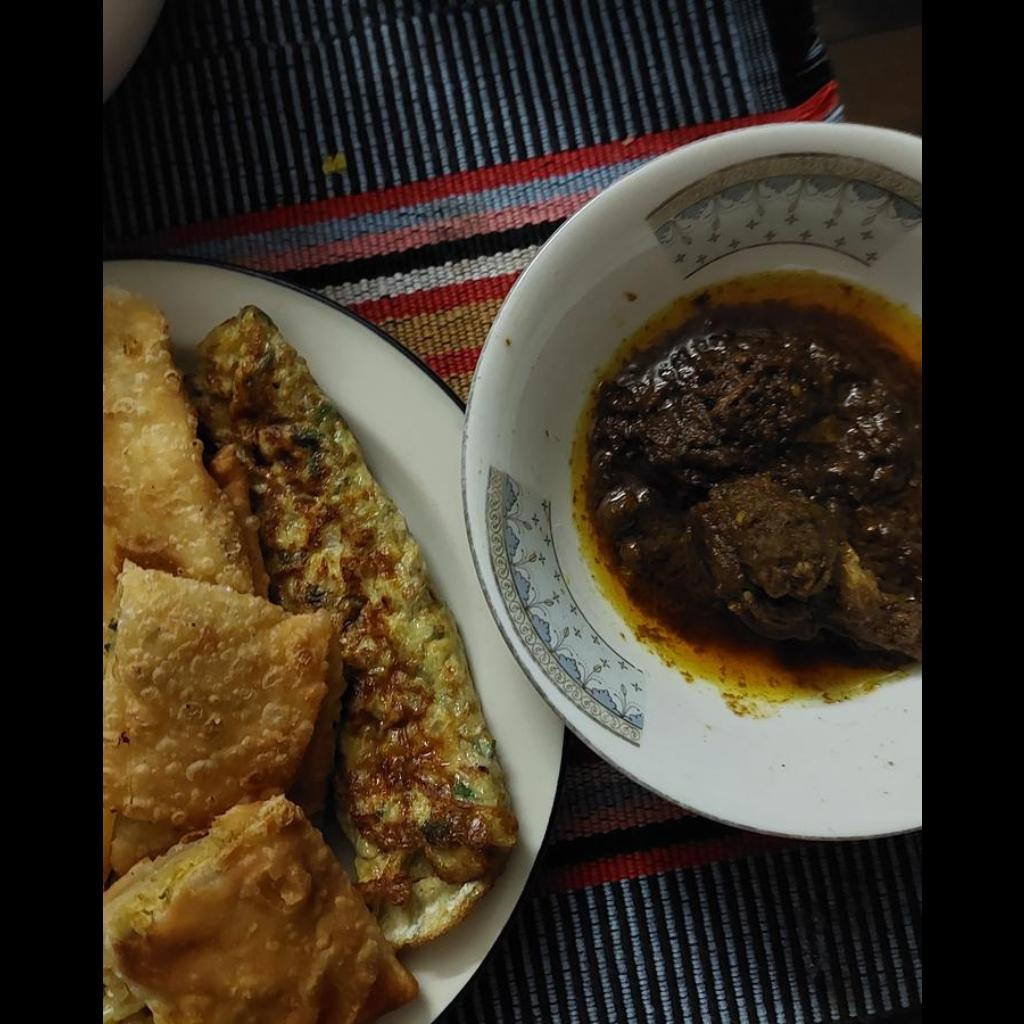beef: (599, 318, 920, 599)
egg-poached: (185, 302, 519, 937)
puri: (102, 287, 415, 1022)
